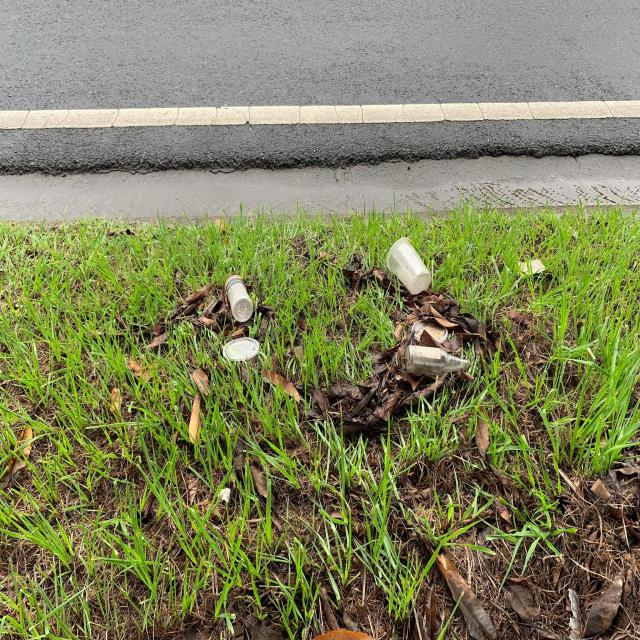litter: (385, 233, 432, 293)
